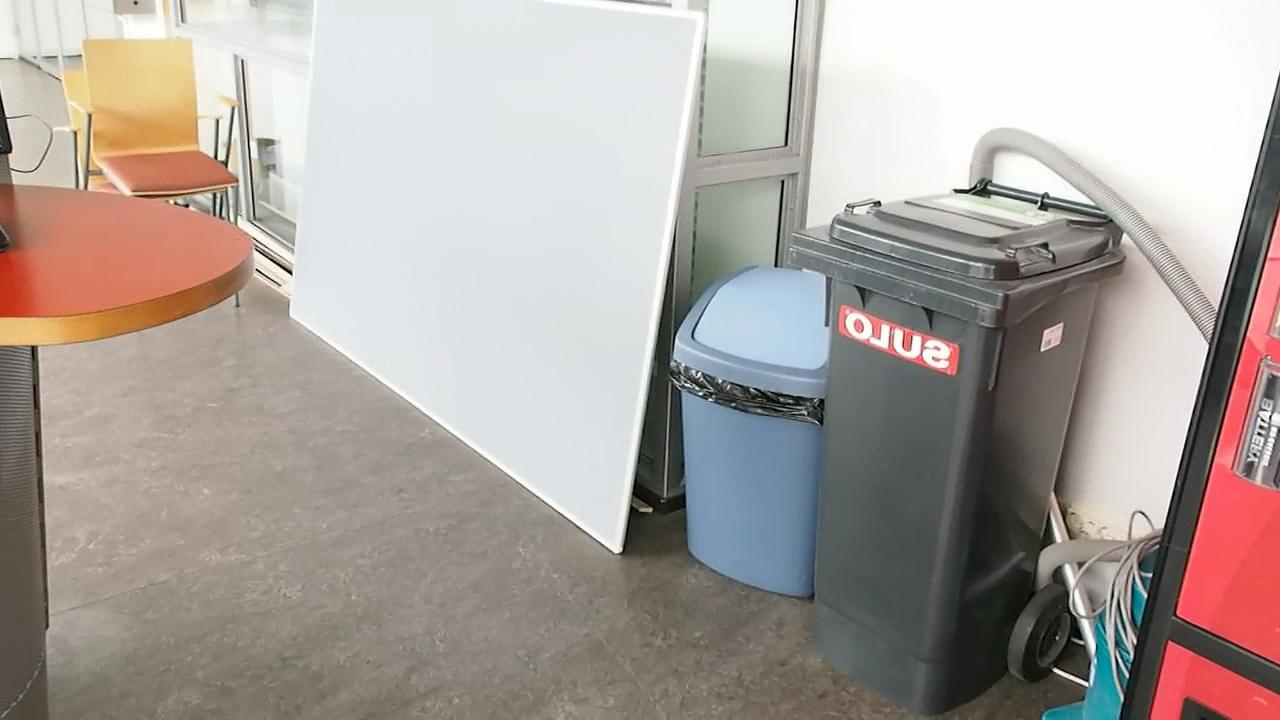chair: (76, 39, 240, 207)
trashbin: (811, 160, 1126, 702), (670, 266, 825, 599)
